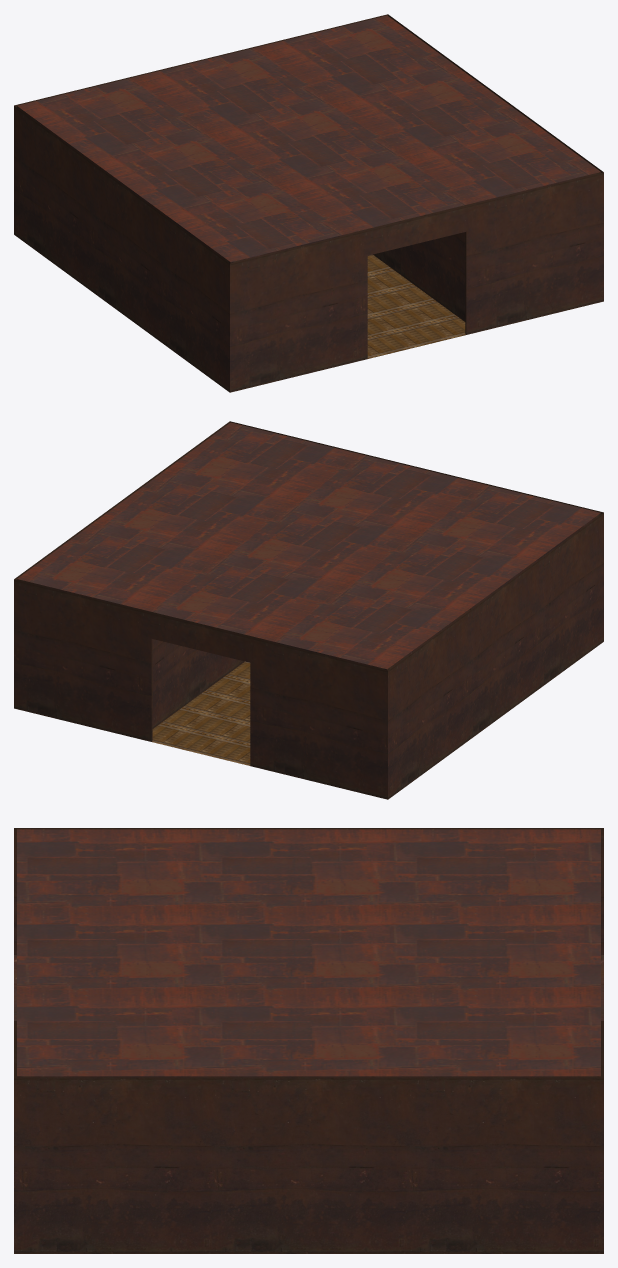
File: 2exitcorridor.glb
3 views of the same model, one above another, from view 1: azimuth 30°, elevation 25°; view 2: azimuth 150°, elevation 25°; view 3: azimuth 270°, elevation 25° (orthographic). The views are drawn at different scales.
Visible parts, largest first — view 1: 2exitcorridor; view 2: 2exitcorridor; view 3: 2exitcorridor.
Boxes of the visible parts, x1=… form: 2exitcorridor: x1=14, y1=14, x2=603, y2=392; 2exitcorridor: x1=14, y1=421, x2=603, y2=799; 2exitcorridor: x1=14, y1=828, x2=603, y2=1253.
Size of what is drawn, in the model's own units: 15.15 by 5 by 15.15.
Materials: 3 (3 with a texture image).
